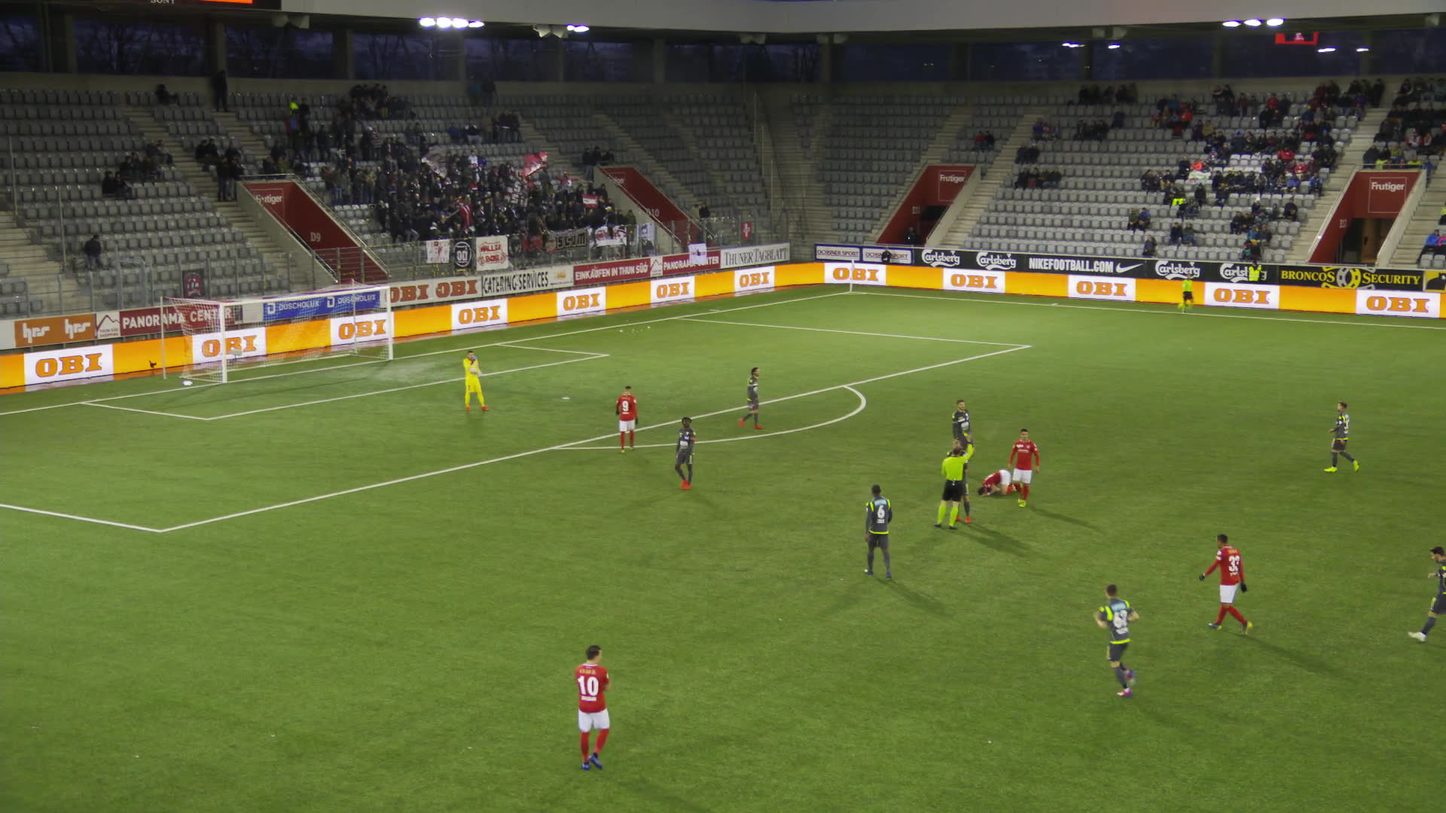player: (1093, 584, 1149, 699), (1196, 532, 1255, 638), (572, 642, 612, 772), (1405, 544, 1445, 644), (861, 483, 893, 582), (1004, 426, 1041, 508), (1323, 400, 1360, 472), (668, 416, 700, 491), (947, 398, 977, 477), (947, 437, 973, 524), (735, 365, 764, 431), (460, 348, 488, 413), (612, 384, 637, 454), (975, 467, 1025, 497)
referee: (931, 429, 972, 531), (1176, 272, 1194, 314)
